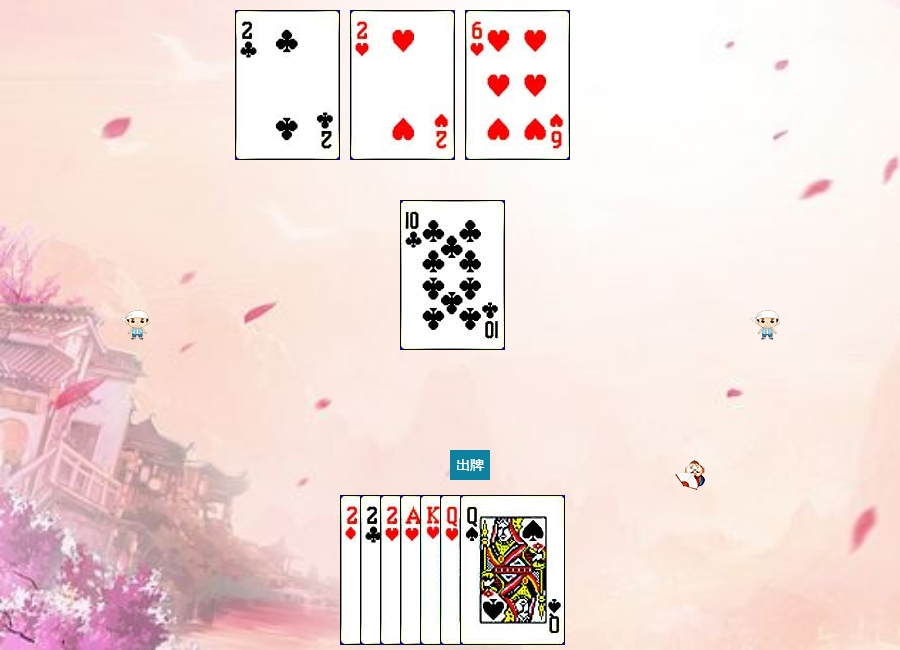10~2: (400, 200, 505, 350)
12~3: (440, 495, 545, 645)
12~4: (460, 495, 565, 645)
13~3: (420, 495, 525, 645)
14~3: (400, 495, 505, 645)
15~1: (340, 495, 445, 645)
15~2: (235, 10, 340, 160), (360, 495, 465, 645)
15~3: (350, 10, 455, 160), (380, 495, 485, 645)
6~3: (465, 10, 570, 160)
